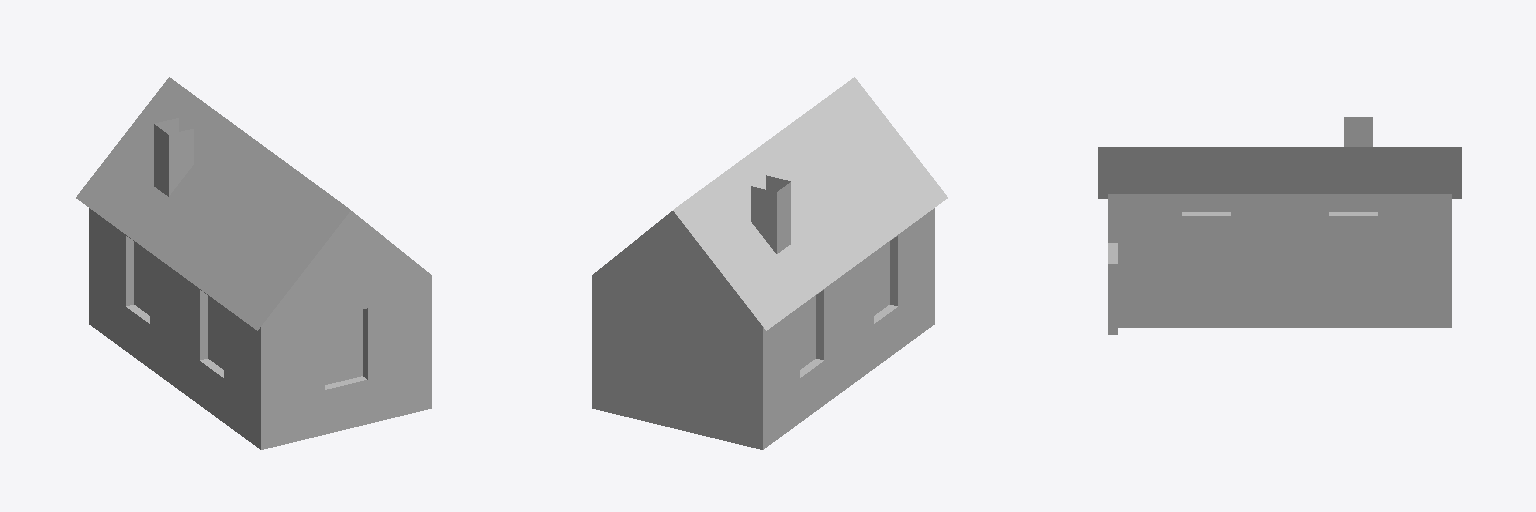
Rendered from village_house.obj.
3 renders of one model, left to right at view 1: azimuth 30°, elevation 25°; view 2: azimuth 150°, elevation 25°; view 3: azimuth 270°, elevation 25°, orthographic.
Bounding box in the file's own units: 4.2 × 5 × 7.4.